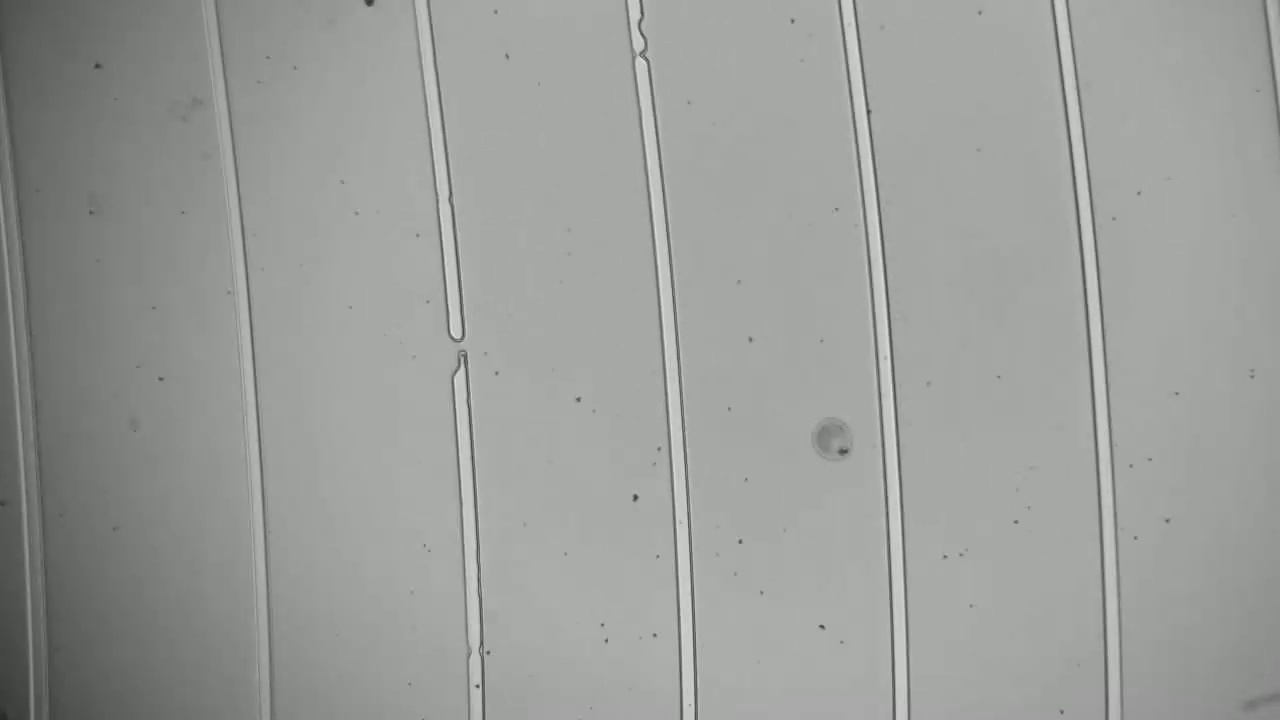edge_bite: (459, 634, 491, 667), (621, 12, 652, 43), (629, 44, 656, 74)
open: (441, 324, 473, 389)
